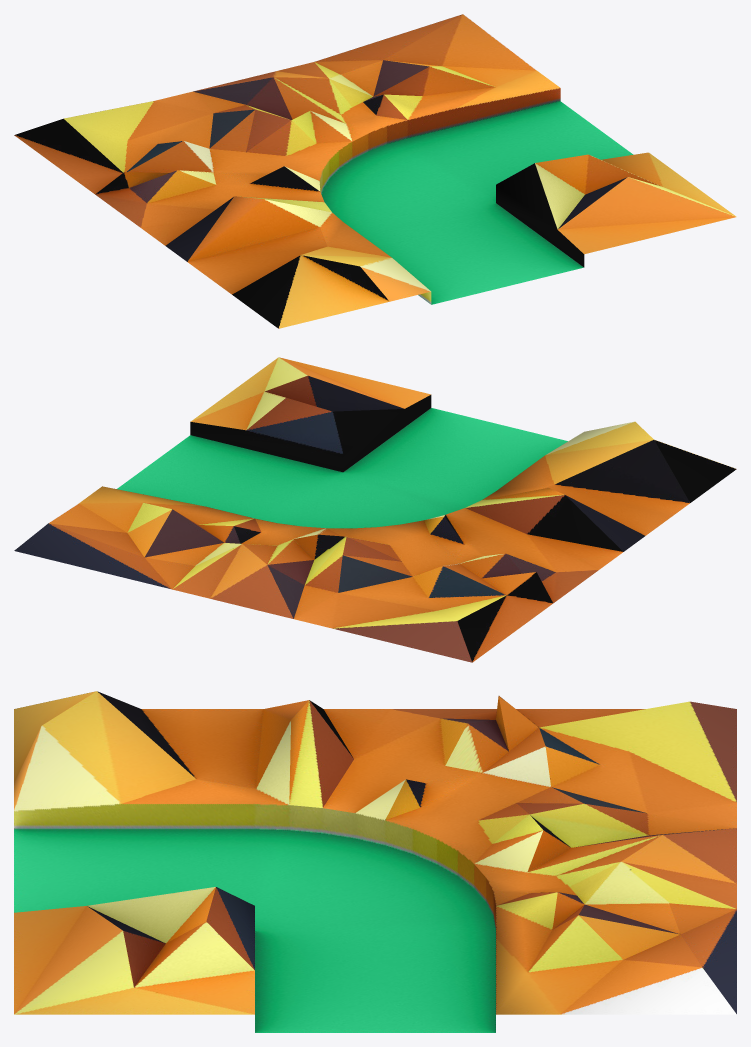
File: corner_s.fbx
3 renders of one model, top to bottom at view 1: azimuth 30°, elevation 25°; view 2: azimuth 150°, elevation 25°; view 3: azimuth 270°, elevation 25°, orthographic. The views are drawn at different scales.
Visible parts, largest first — view 1: corner_s; view 2: corner_s; view 3: corner_s.
Boxes of the visible parts, x1,y1,x2,y2 form: corner_s: (14,14,736,328); corner_s: (14,357,736,662); corner_s: (14,691,736,1032).
Size of the model in its own units: 72 by 7.83 by 72.
